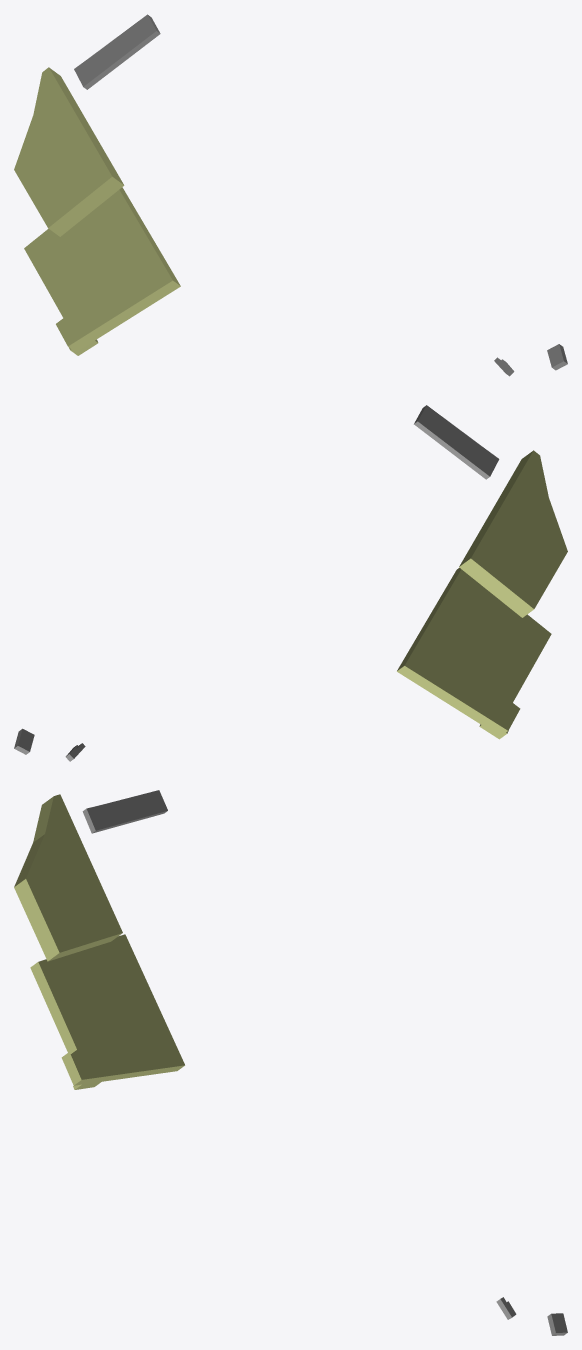
The picture shows the model from 3 angles, top to bottom: view 1: azimuth 30°, elevation 25°; view 2: azimuth 150°, elevation 25°; view 3: azimuth 330°, elevation 25°; orthographic projection.
Parts seen in each view (by area): view 1: 0_2_3_2_1_2; view 2: 0_2_3_2_1_2; view 3: 0_2_3_2_1_2.
Boxes of the visible parts, box(x1,y1,x2,y2) form: 0_2_3_2_1_2: box(14, 14, 567, 376); 0_2_3_2_1_2: box(14, 405, 567, 761); 0_2_3_2_1_2: box(14, 790, 567, 1335).
Bounding box in the file's own units: 236 × 185 × 9.91.
